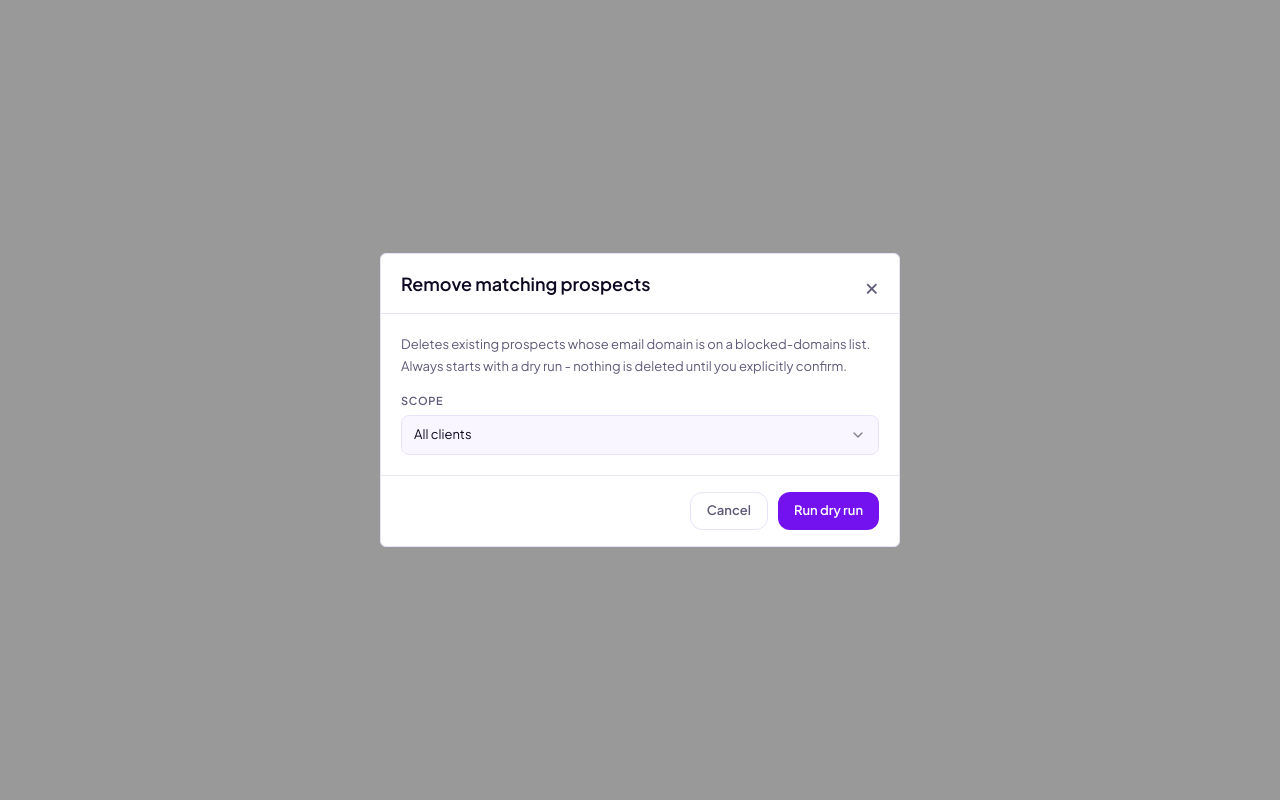
Test: PurgeModal dry-run gate › shows the dry-run count and only fires the confirm call (p_confirm=true) after the user clicks delete
Click the button "Run dry run": (828, 511) [778, 492, 879, 530]
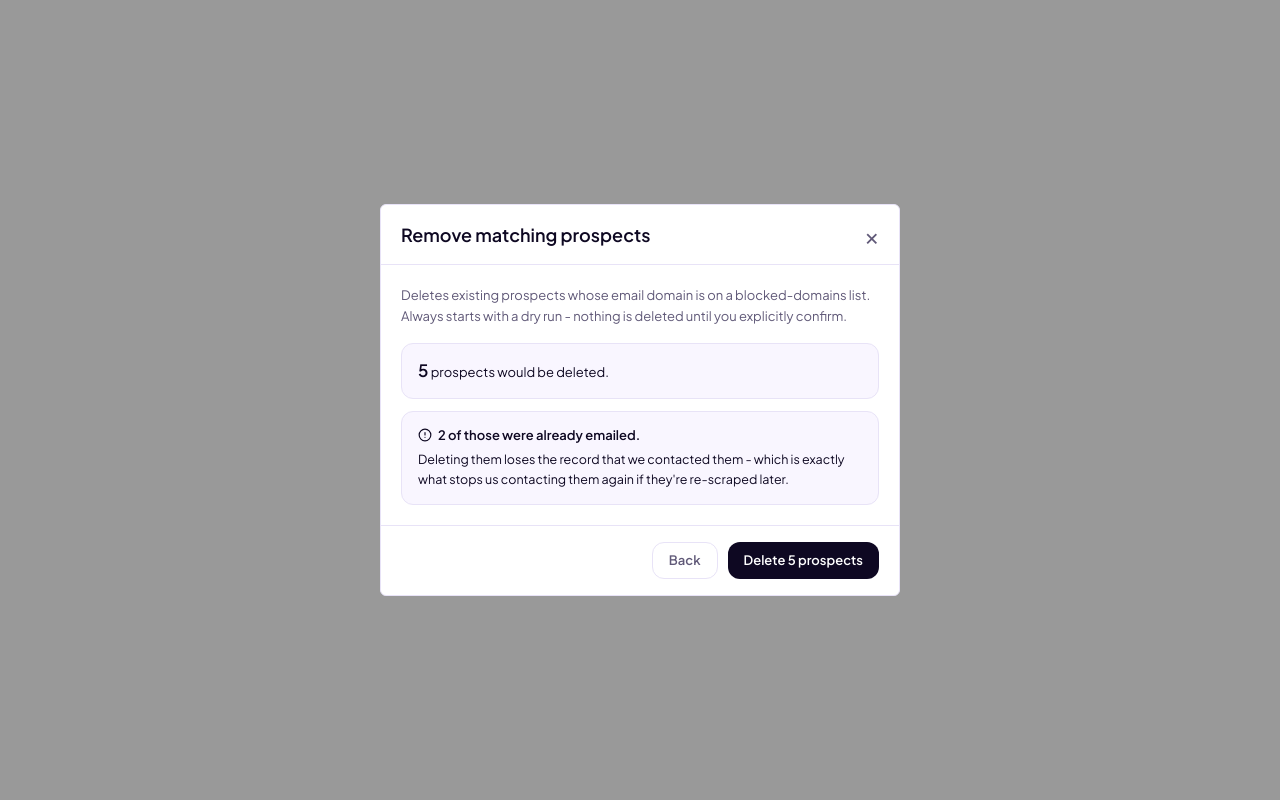
Expected: the text "5" is shown, [418, 359, 428, 381]
Click the button "Delete 5 prospects": (803, 560) [728, 542, 879, 579]
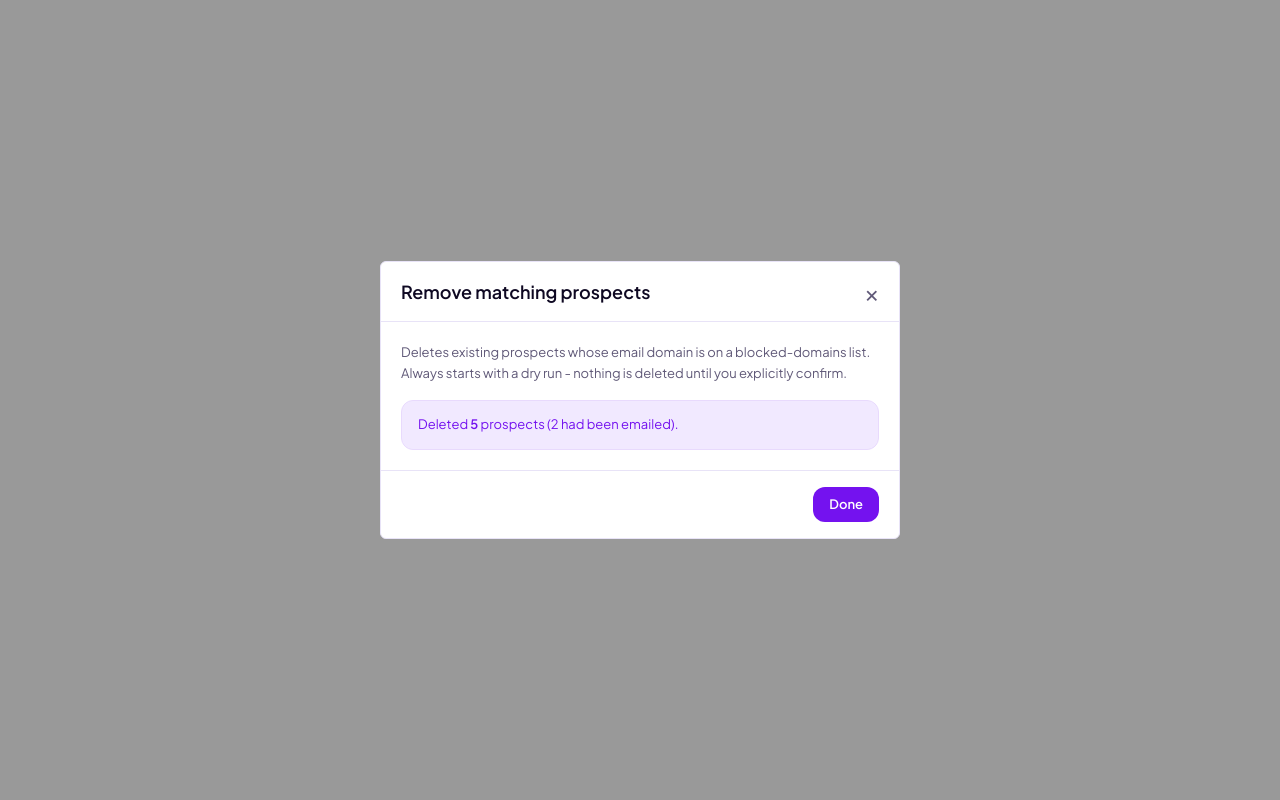
Expected: the button "Done" is shown, [813, 487, 879, 522]
